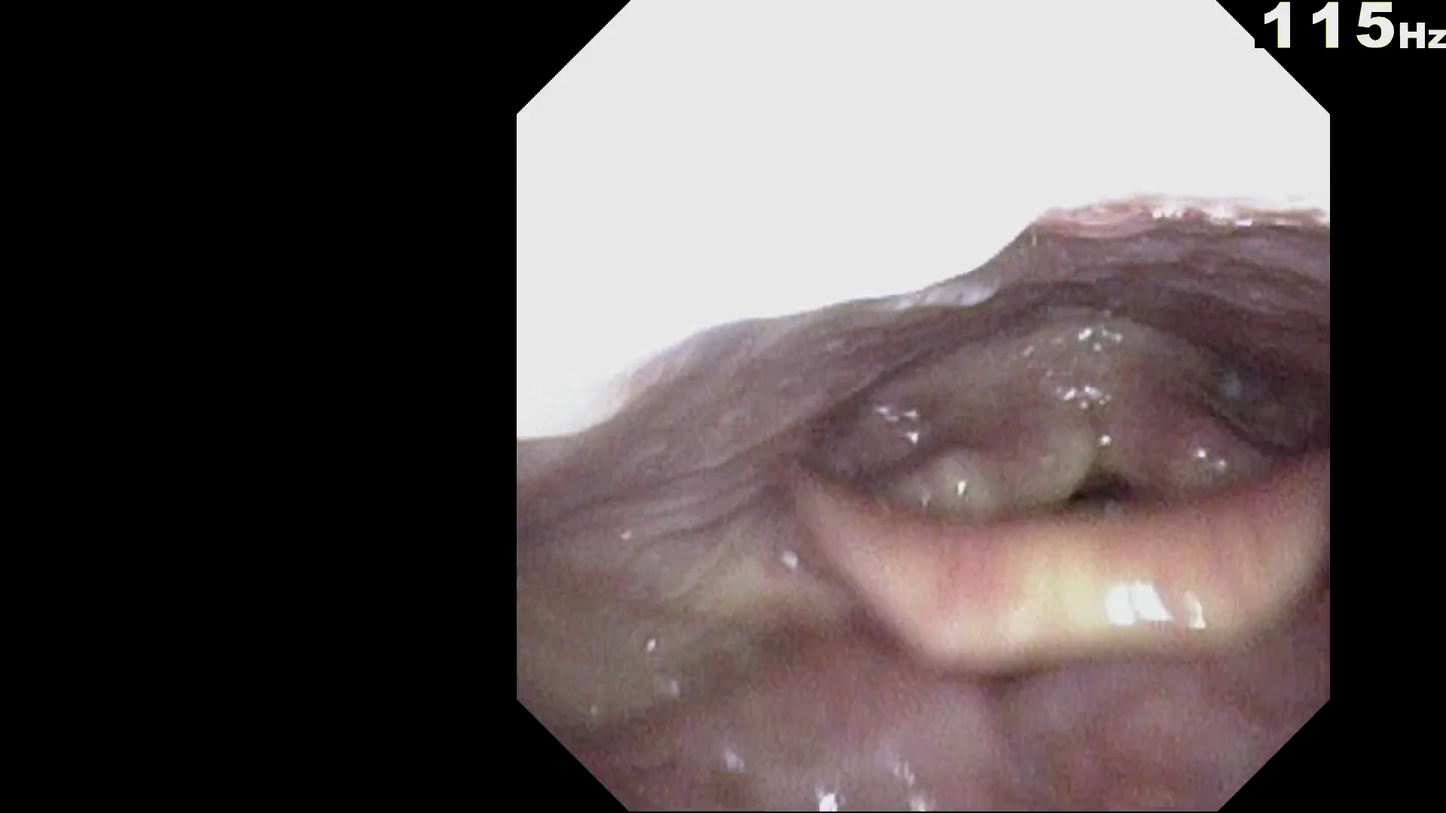epiglottis: (780, 400, 1305, 639)
